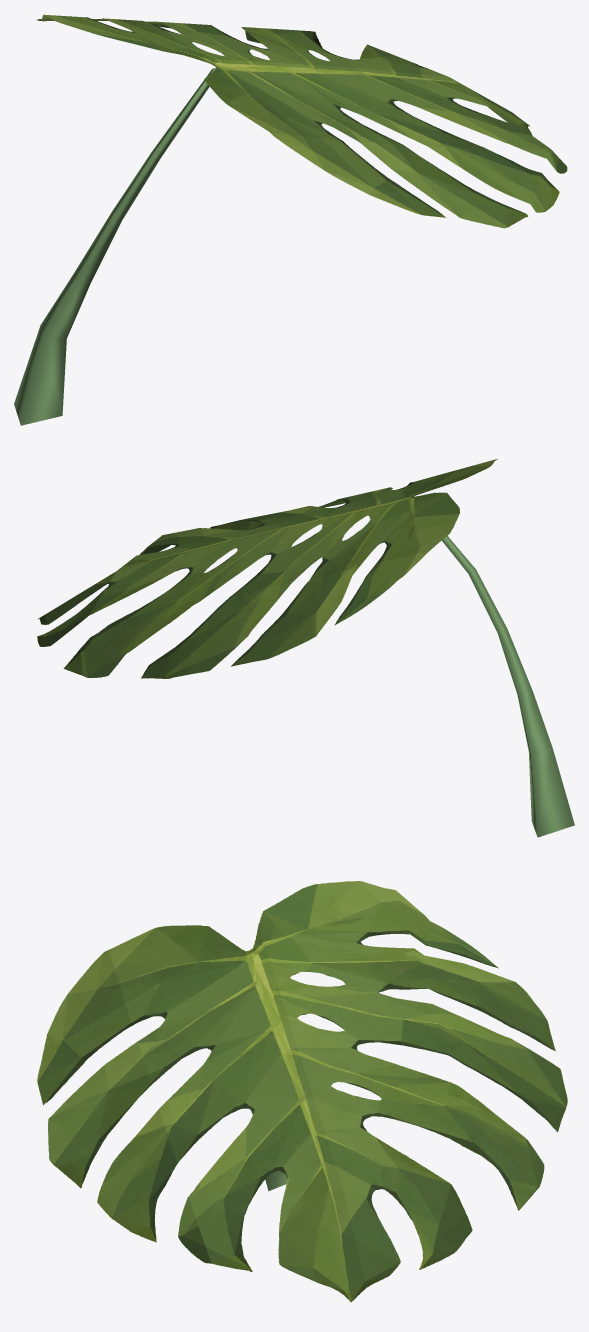
Rendered from Monstera_Single_Leaf.fbx.
3 views of the same model, one above another, from view 1: azimuth 30°, elevation 25°; view 2: azimuth 150°, elevation 25°; view 3: azimuth 270°, elevation 25° (orthographic). The views are drawn at different scales.
Visible parts, largest first — view 1: Monstera_Single_Leaf; view 2: Monstera_Single_Leaf; view 3: Monstera_Single_Leaf.
Part boxes in pixels (x1,y1,x2,y2): Monstera_Single_Leaf: (14, 14, 567, 425); Monstera_Single_Leaf: (37, 459, 574, 837); Monstera_Single_Leaf: (37, 881, 567, 1302).
Bounding box in the file's own units: 57.88 × 51.88 × 35.49.
Materials: 2 (1 with a texture image).
